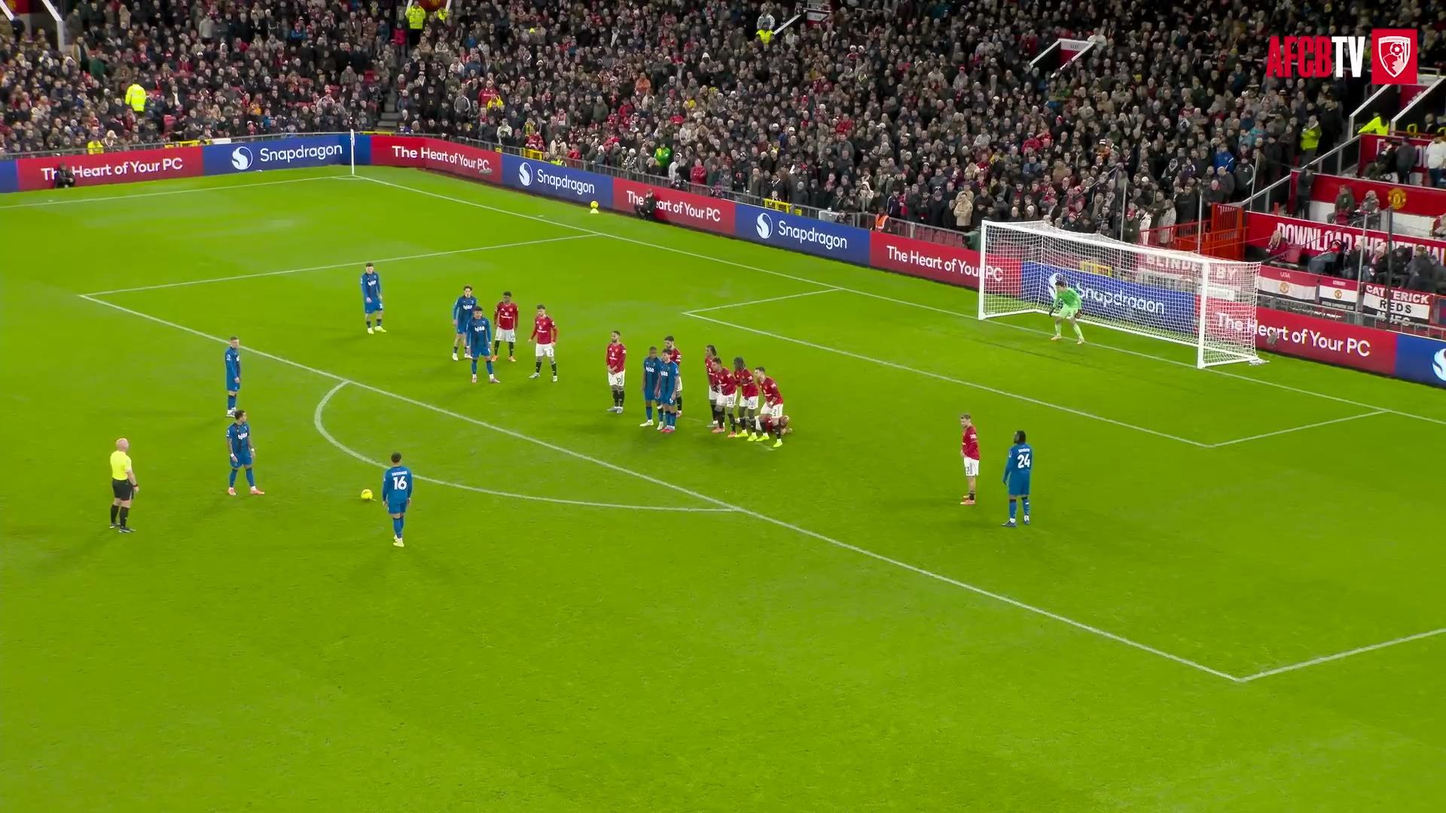football: (416, 0, 444, 11), (361, 489, 372, 501)
player: (227, 410, 264, 495), (382, 452, 413, 547), (752, 367, 787, 447), (1003, 431, 1032, 526), (466, 304, 499, 382), (729, 357, 758, 439), (1051, 277, 1084, 344), (529, 304, 557, 382), (654, 354, 678, 433), (639, 346, 662, 427), (492, 291, 518, 361), (715, 358, 738, 436), (705, 345, 725, 433), (452, 286, 476, 359), (960, 413, 979, 505), (660, 336, 682, 414), (361, 263, 386, 331), (606, 331, 626, 413), (224, 336, 240, 416)
referee: (110, 438, 138, 532)
